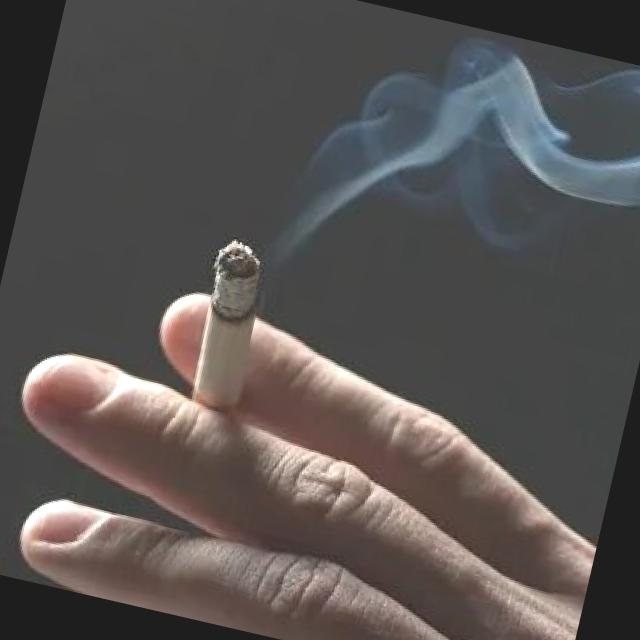cigarette: (179, 232, 282, 428)
